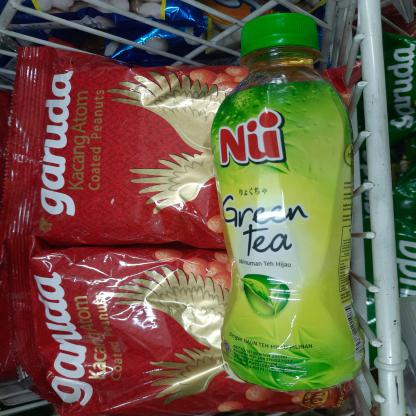plastic: (208, 7, 374, 396)
